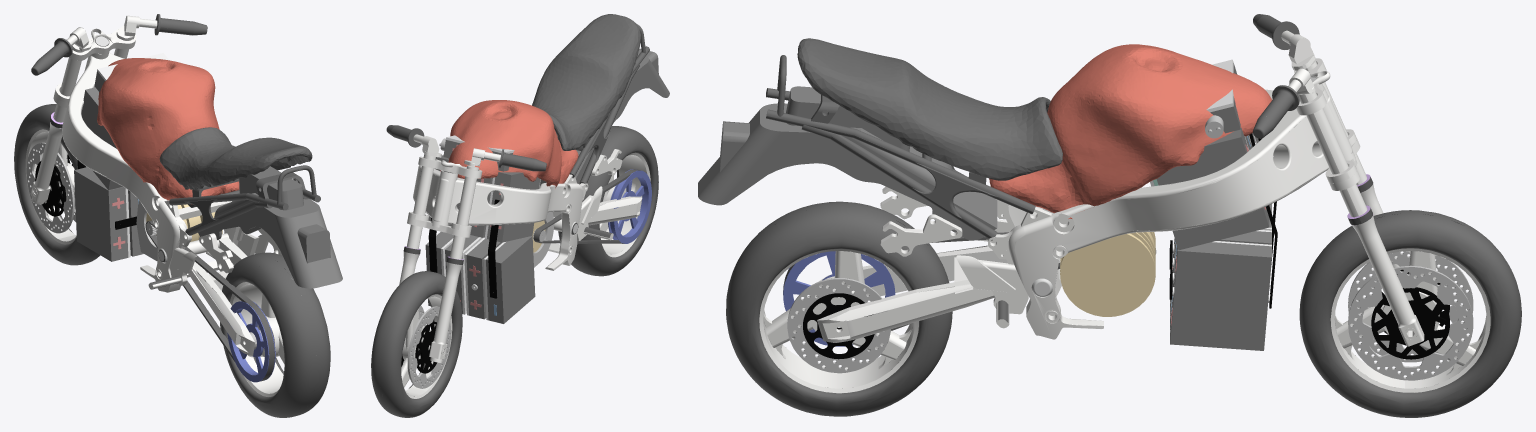
Rendered from moto.glb.
3 views of the same model, side by side, from view 1: azimuth 30°, elevation 25°; view 2: azimuth 150°, elevation 25°; view 3: azimuth 270°, elevation 25° (orthographic). The views are drawn at different scales.
Parts seen in each view (by area): view 1: Coque, Roue arriÃ¨re.004, Chassis, Cover plastique, SiÃ¨ge, Composant1.008, roue avant, Chassis arriÃ¨re.001, Bras oscillant, Roue arriÃ¨re.006, Courroie, Poulie arriÃ¨re (+18 smaller); view 2: SiÃ¨ge, Chassis, Coque, roue avant, Roue arriÃ¨re.004, Composant1.008, Poulie arriÃ¨re, Cover plastique, fourche.007, Chassis arriÃ¨re.001, Roue arriÃ¨re.006, Composant1.002 (+24 smaller); view 3: Coque, Chassis, Roue arriÃ¨re.004, SiÃ¨ge, roue avant, Cover plastique, Composant1(SymÃ©trie miroir).002, Roue arriÃ¨re.006, Bras oscillant, ZF 75-10, Chassis arriÃ¨re.001, roue avant.002 (+17 smaller).
Boxes of the visible parts, <box> form: Coque: <box>97,58,239,204</box>; Roue arriÃ¨re.004: <box>220,252,330,417</box>; Chassis: <box>62,52,243,292</box>; Cover plastique: <box>198,166,342,288</box>; SiÃ¨ge: <box>159,127,312,189</box>; Composant1.008: <box>74,167,128,261</box>; roue avant: <box>14,104,99,265</box>; Chassis arriÃ¨re.001: <box>169,172,320,235</box>; Bras oscillant: <box>187,233,254,355</box>; Roue arriÃ¨re.006: <box>229,282,284,396</box>; Courroie: <box>145,220,274,381</box>; Poulie arriÃ¨re: <box>227,301,275,382</box>; SiÃ¨ge: <box>532,14,640,150</box>; Chassis: <box>413,165,588,270</box>; Coque: <box>448,100,578,188</box>; roue avant: <box>371,271,462,417</box>; Roue arriÃ¨re.004: <box>558,126,658,276</box>; Composant1.008: <box>486,236,535,323</box>; Poulie arriÃ¨re: <box>608,169,651,243</box>; Cover plastique: <box>556,48,669,183</box>; fourche.007: <box>429,262,462,359</box>; Chassis arriÃ¨re.001: <box>570,46,649,183</box>; Roue arriÃ¨re.006: <box>599,152,650,257</box>; Composant1.002: <box>487,172,540,242</box>; Coque: <box>989,44,1271,219</box>; Chassis: <box>988,86,1355,339</box>; Roue arriÃ¨re.004: <box>726,201,952,416</box>; SiÃ¨ge: <box>797,38,1062,180</box>; roue avant: <box>1299,210,1521,417</box>; Cover plastique: <box>698,86,997,240</box>; Composant1(SymÃ©trie miroir).002: <box>1170,242,1271,350</box>; Roue arriÃ¨re.006: <box>759,249,918,393</box>; Bras oscillant: <box>817,245,1007,342</box>; ZF 75-10: <box>1060,232,1155,316</box>; Chassis arriÃ¨re.001: <box>766,88,1035,240</box>; roue avant.002: <box>1348,265,1473,380</box>.
Bounding box in the file's own units: 0.7397 × 1.1 × 2.22.
